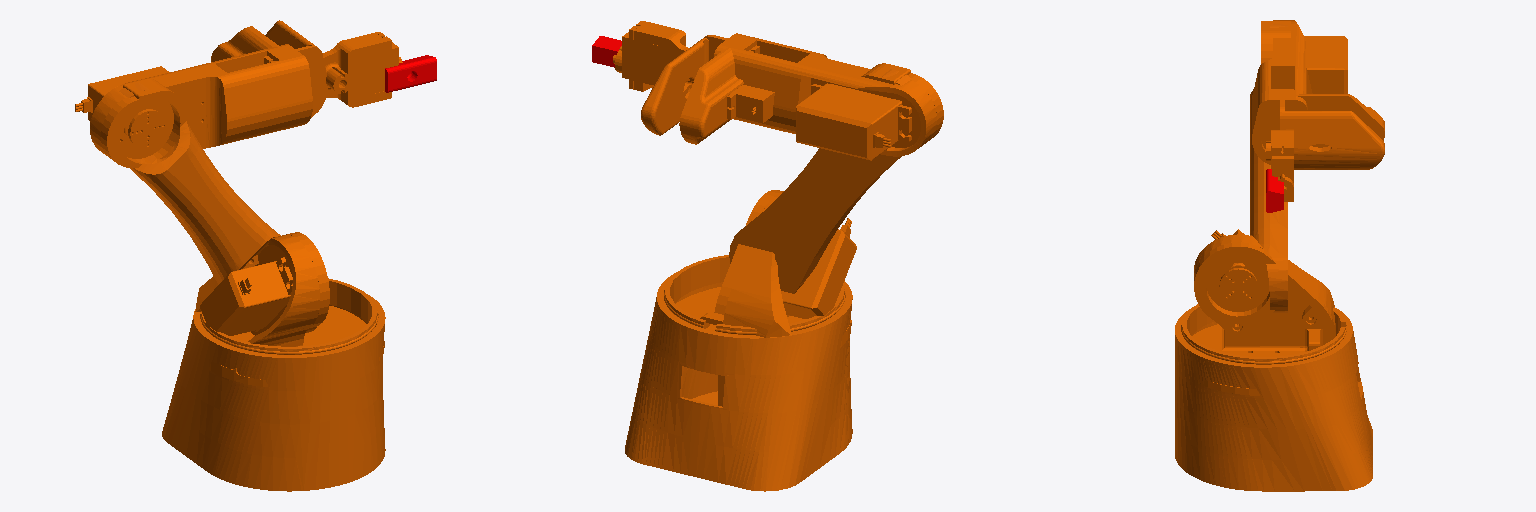
robot.urdf — Drago:
<?xml version="1.0" encoding="utf-8"?>
<robot
  name="Drago">
  <link
    name="base_link">
    <inertial>
      <origin
        xyz="-3.17939775335685E-08 -0.00264994119849839 0.024520116544489"
        rpy="0 0 0" />
      <mass
        value="0.150185390114133" />
      <inertia
        ixx="0.000168237215192189"
        ixy="-4.1193940307426E-11"
        ixz="4.55755042083359E-11"
        iyy="0.000154817201119742"
        iyz="3.91097259857606E-06"
        izz="0.000251145547154156" />
    </inertial>
    <visual>
      <origin
        xyz="0 0 0"
        rpy="0 0 0" />
      <geometry>
        <mesh
          filename="package://drago_pkg/meshes/base_link.STL" />
      </geometry>
      <material
        name="">
        <color
          rgba="0.909803921568627 0.447058823529412 0.0431372549019608 1" />
      </material>
    </visual>
    <collision>
      <origin
        xyz="0 0 0"
        rpy="0 0 0" />
      <geometry>
        <mesh
          filename="package://drago_pkg/meshes/base_link.STL" />
      </geometry>
    </collision>
  </link>
  <link
    name="Waist_link">
    <inertial>
      <origin
        xyz="-0.000676323173403932 0.0126083773212082 0.0204053116340272"
        rpy="0 0 0" />
      <mass
        value="0.114312274057208" />
      <inertia
        ixx="5.85730201621192E-05"
        ixy="-2.01852917189799E-06"
        ixz="7.34554378804278E-06"
        iyy="7.4949840825555E-05"
        iyz="-3.56787891760963E-06"
        izz="7.44043801409344E-05" />
    </inertial>
    <visual>
      <origin
        xyz="0 0 0"
        rpy="0 0 0" />
      <geometry>
        <mesh
          filename="package://drago_pkg/meshes/Waist_link.STL" />
      </geometry>
      <material
        name="">
        <color
          rgba="0.909803921568627 0.443137254901961 0.0313725490196078 1" />
      </material>
    </visual>
    <collision>
      <origin
        xyz="0 0 0"
        rpy="0 0 0" />
      <geometry>
        <mesh
          filename="package://drago_pkg/meshes/Waist_link.STL" />
      </geometry>
    </collision>
  </link>
  <joint
    name="Waist_joint"
    type="revolute">
    <origin
      xyz="0 0 0.06165"
      rpy="0 0 0" />
    <parent
      link="base_link" />
    <child
      link="Waist_link" />
    <axis
      xyz="0 0 1" />
    <limit
      lower="-1.57"
      upper="1.57"
      effort="1"
      velocity="3" />
    <dynamics
      damping="1"
      friction="1" />
  </joint>
  <link
    name="Shoulder_link">
    <inertial>
      <origin
        xyz="-2.52041920136073E-05 0.0600135143636057 0.019804576428293"
        rpy="0 0 0" />
      <mass
        value="0.0683062909364027" />
      <inertia
        ixx="0.0001113354847057"
        ixy="2.14175645290312E-10"
        ixz="-6.57129254857723E-09"
        iyy="9.89041105147483E-06"
        iyz="-1.38107151450493E-08"
        izz="0.000116571288618766" />
    </inertial>
    <visual>
      <origin
        xyz="0 0 0"
        rpy="0 0 0" />
      <geometry>
        <mesh
          filename="package://drago_pkg/meshes/Shoulder_link.STL" />
      </geometry>
      <material
        name="">
        <color
          rgba="0.909803921568627 0.447058823529412 0.0431372549019608 1" />
      </material>
    </visual>
    <collision>
      <origin
        xyz="0 0 0"
        rpy="0 0 0" />
      <geometry>
        <mesh
          filename="package://drago_pkg/meshes/Shoulder_link.STL" />
      </geometry>
    </collision>
  </link>
  <joint
    name="Shoulder_joint"
    type="revolute">
    <origin
      xyz="-0.0138993282947757 0.0103143963931036 0.04028"
      rpy="1.56990264699179 -0.614305609815112 0.000515109286944776" />
    <parent
      link="Waist_link" />
    <child
      link="Shoulder_link" />
    <axis
      xyz="0.0012670059545015 0 -0.999999197347633" />
    <limit
      lower="-1.31"
      upper="2.5"
      effort="1"
      velocity="3" />
  </joint>
  <link
    name="Elbow_link">
    <inertial>
      <origin
        xyz="0.0355691423861956 -0.000417820683792508 -0.00500607323785878"
        rpy="0 0 0" />
      <mass
        value="0.104178577887407" />
      <inertia
        ixx="1.93592335339553E-05"
        ixy="2.54946103415903E-07"
        ixz="3.93913710148055E-07"
        iyy="7.13397768744526E-05"
        iyz="-1.31077728319941E-08"
        izz="7.20804633552649E-05" />
    </inertial>
    <visual>
      <origin
        xyz="0 0 0"
        rpy="0 0 0" />
      <geometry>
        <mesh
          filename="package://drago_pkg/meshes/Elbow_link.STL" />
      </geometry>
      <material
        name="">
        <color
          rgba="0.909803921568627 0.443137254901961 0.0313725490196078 1" />
      </material>
    </visual>
    <collision>
      <origin
        xyz="0 0 0"
        rpy="0 0 0" />
      <geometry>
        <mesh
          filename="package://drago_pkg/meshes/Elbow_link.STL" />
      </geometry>
    </collision>
  </link>
  <joint
    name="Elbow_joint"
    type="revolute">
    <origin
      xyz="0 0.12 0"
      rpy="0.000730291763721768 0 -0.614305797905159" />
    <parent
      link="Shoulder_link" />
    <child
      link="Elbow_link" />
    <axis
      xyz="0.00103536403989601 0 -0.999999464010509" />
    <limit
      lower="-4"
      upper="0.12"
      effort="1"
      velocity="3" />
  </joint>
  <link
    name="Wrist_1_link">
    <inertial>
      <origin
        xyz="0.00607897954377361 0.00364397902802904 0.0234182353222563"
        rpy="0 0 0" />
      <mass
        value="0.0380971171326554" />
      <inertia
        ixx="1.1860347124032E-05"
        ixy="-2.75536216962121E-08"
        ixz="-4.05594221123261E-07"
        iyy="1.36525245956248E-05"
        iyz="4.79313308370815E-07"
        izz="7.54220734333144E-06" />
    </inertial>
    <visual>
      <origin
        xyz="0 0 0"
        rpy="0 0 0" />
      <geometry>
        <mesh
          filename="package://drago_pkg/meshes/Wrist_1_link.STL" />
      </geometry>
      <material
        name="">
        <color
          rgba="0.909803921568627 0.443137254901961 0.0313725490196078 1" />
      </material>
    </visual>
    <collision>
      <origin
        xyz="0 0 0"
        rpy="0 0 0" />
      <geometry>
        <mesh
          filename="package://drago_pkg/meshes/Wrist_1_link.STL" />
      </geometry>
    </collision>
  </link>
  <joint
    name="Wrist_1_joint"
    type="revolute">
    <origin
      xyz="0.0943999494025927 -0.005 9.77383653464683E-05"
      rpy="0 1.5707963267949 0" />
    <parent
      link="Elbow_link" />
    <child
      link="Wrist_1_link" />
    <axis
      xyz="0.001035364039901 0 -0.999999464010509" />
    <limit
      lower="-1.57"
      upper="1.57"
      effort="1"
      velocity="3" />
  </joint>
  <link
    name="Wrist_2_link">
    <inertial>
      <origin
        xyz="0.0166070440758065 0.000139180486092322 -0.00152313864772932"
        rpy="0 0 0" />
      <mass
        value="0.0143322219516906" />
      <inertia
        ixx="1.20971579960555E-06"
        ixy="-1.20417958057003E-08"
        ixz="-5.41745725198343E-08"
        iyy="1.15223913686393E-06"
        iyz="1.04848328536845E-08"
        izz="1.96703829342423E-06" />
    </inertial>
    <visual>
      <origin
        xyz="0 0 0"
        rpy="0 0 0" />
      <geometry>
        <mesh
          filename="package://drago_pkg/meshes/Wrist_2_link.STL" />
      </geometry>
      <material
        name="">
        <color
          rgba="0.909803921568627 0.443137254901961 0.0313725490196078 1" />
      </material>
    </visual>
    <collision>
      <origin
        xyz="0 0 0"
        rpy="0 0 0" />
      <geometry>
        <mesh
          filename="package://drago_pkg/meshes/Wrist_2_link.STL" />
      </geometry>
    </collision>
  </link>
  <joint
    name="Wrist_2_joint"
    type="revolute">
    <origin
      xyz="-0.0013012254232319 0.0034038765092409 0.0208385964872179"
      rpy="-3.14159265358979 -1.56976096256998 3.14159265358979" />
    <parent
      link="Wrist_1_link" />
    <child
      link="Wrist_2_link" />
    <axis
      xyz="0 0 -1" />
    <limit
      lower="-1.57"
      upper="1.396"
      effort="1"
      velocity="3" />
  </joint>
  <link
    name="Effector_link">
    <inertial>
      <origin
        xyz="0.00778015430289843 0.00364256165738719 -0.00361079517313335"
        rpy="0 0 0" />
      <mass
        value="0.00118783436629656" />
      <inertia
        ixx="1.21592416437205E-07"
        ixy="2.05279534283296E-08"
        ixz="-2.0386676237453E-08"
        iyy="1.21305131169617E-07"
        iyz="-2.04470678584157E-08"
        izz="1.21633378578844E-07" />
    </inertial>
    <visual>
      <origin
        xyz="0 0 0"
        rpy="0 0 0" />
      <geometry>
        <mesh
          filename="package://drago_pkg/meshes/Effector_link.STL" />
      </geometry>
      <material
        name="">
        <color
          rgba="1 0.0274509803921569 0.0274509803921569 1" />
      </material>
    </visual>
    <collision>
      <origin
        xyz="0 0 0"
        rpy="0 0 0" />
      <geometry>
        <mesh
          filename="package://drago_pkg/meshes/Effector_link.STL" />
      </geometry>
    </collision>
  </link>
  <joint
    name="Effector_joint"
    type="revolute">
    <origin
      xyz="0.040844 -0.0051105 -0.0013078"
      rpy="0 0.0010354 0" />
    <parent
      link="Wrist_2_link" />
    <child
      link="Effector_link" />
    <axis
      xyz="1 0 0.0010354" />
    <limit
      lower="-1.57"
      upper="1.57"
      effort="1"
      velocity="3" />
  </joint>
</robot>

--- Render facts (derived) ---
The picture shows the robot from 3 angles, left to right: view 1: azimuth 30°, elevation 25°; view 2: azimuth 150°, elevation 25°; view 3: azimuth 270°, elevation 25°; orthographic projection.
Robot: Drago — 7 links, 6 joints (6 revolute); root link base_link; default pose: all joints at 0.
Links seen in each view (by area): view 1: base_link, Elbow_link, Waist_link, Shoulder_link, Wrist_2_link, Wrist_1_link, Effector_link; view 2: base_link, Elbow_link, Shoulder_link, Waist_link, Wrist_1_link, Wrist_2_link, Effector_link; view 3: base_link, Waist_link, Elbow_link, Wrist_1_link, Shoulder_link, Wrist_2_link, Effector_link.
Link boxes in pixels (bbox=[...]): base_link: bbox=[162, 278, 385, 491]; Elbow_link: bbox=[75, 44, 312, 167]; Waist_link: bbox=[195, 232, 384, 386]; Shoulder_link: bbox=[119, 82, 280, 284]; Wrist_2_link: bbox=[323, 32, 402, 107]; Wrist_1_link: bbox=[211, 20, 328, 117]; Effector_link: bbox=[385, 55, 436, 92]; base_link: bbox=[625, 255, 852, 491]; Elbow_link: bbox=[714, 33, 943, 160]; Shoulder_link: bbox=[729, 69, 910, 293]; Waist_link: bbox=[676, 190, 856, 347]; Wrist_1_link: bbox=[641, 35, 774, 144]; Wrist_2_link: bbox=[613, 21, 688, 91]; Effector_link: bbox=[592, 36, 621, 67]; base_link: bbox=[1175, 304, 1372, 491]; Waist_link: bbox=[1192, 229, 1335, 395]; Elbow_link: bbox=[1252, 20, 1347, 164]; Wrist_1_link: bbox=[1280, 94, 1384, 169]; Shoulder_link: bbox=[1250, 24, 1287, 312]; Wrist_2_link: bbox=[1266, 129, 1293, 201]; Effector_link: bbox=[1266, 169, 1283, 212].
Size in the robot's own frame: 0.1958 by 0.1156 by 0.221 metres.
Meshes: 7 distinct files referenced, 7 mesh visuals loaded (7 binary STL).
